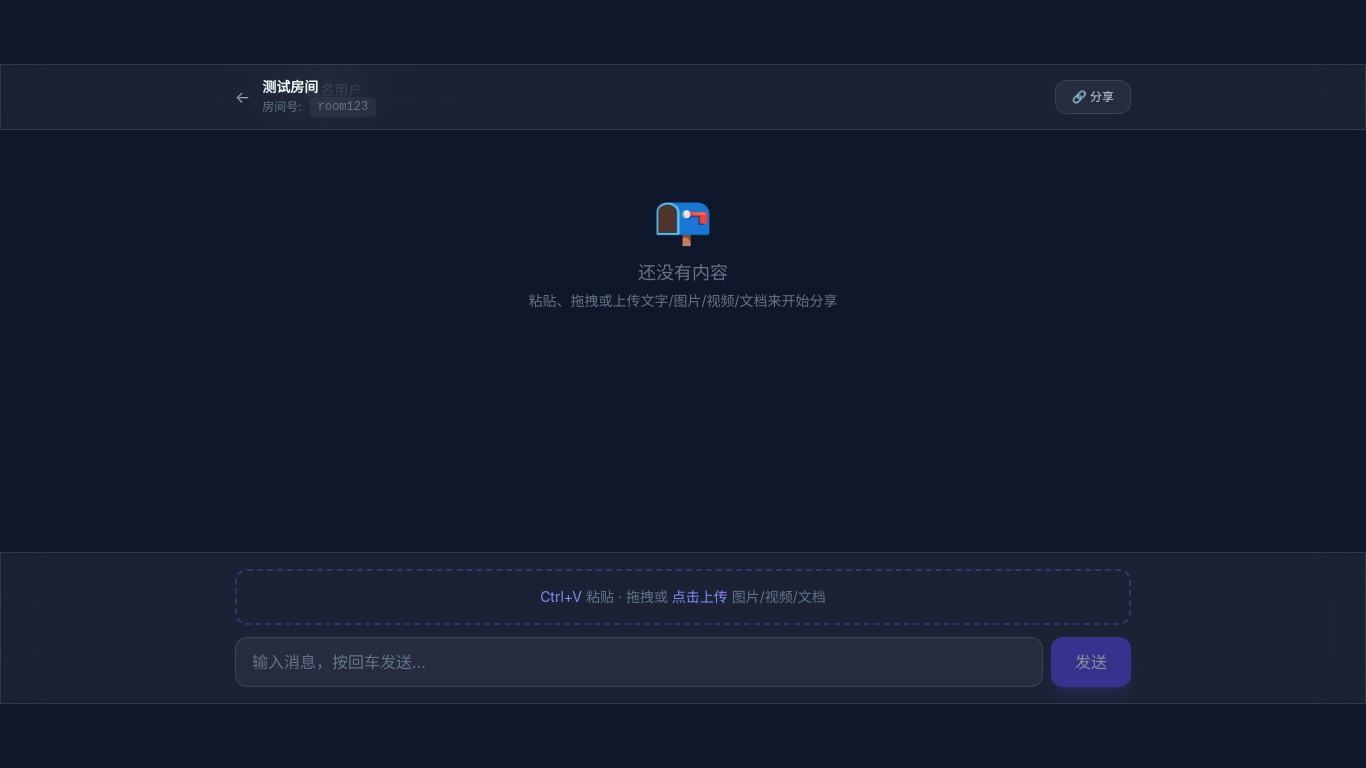
Scenario: Room Page — Share (link + password) › copies share link for open room (no password)
Expected: the text "还没有内容" is shown, [638, 262, 728, 283]
Step 1. Click the button "🔗 分享" → [1093, 97], box [1055, 80, 1131, 114]
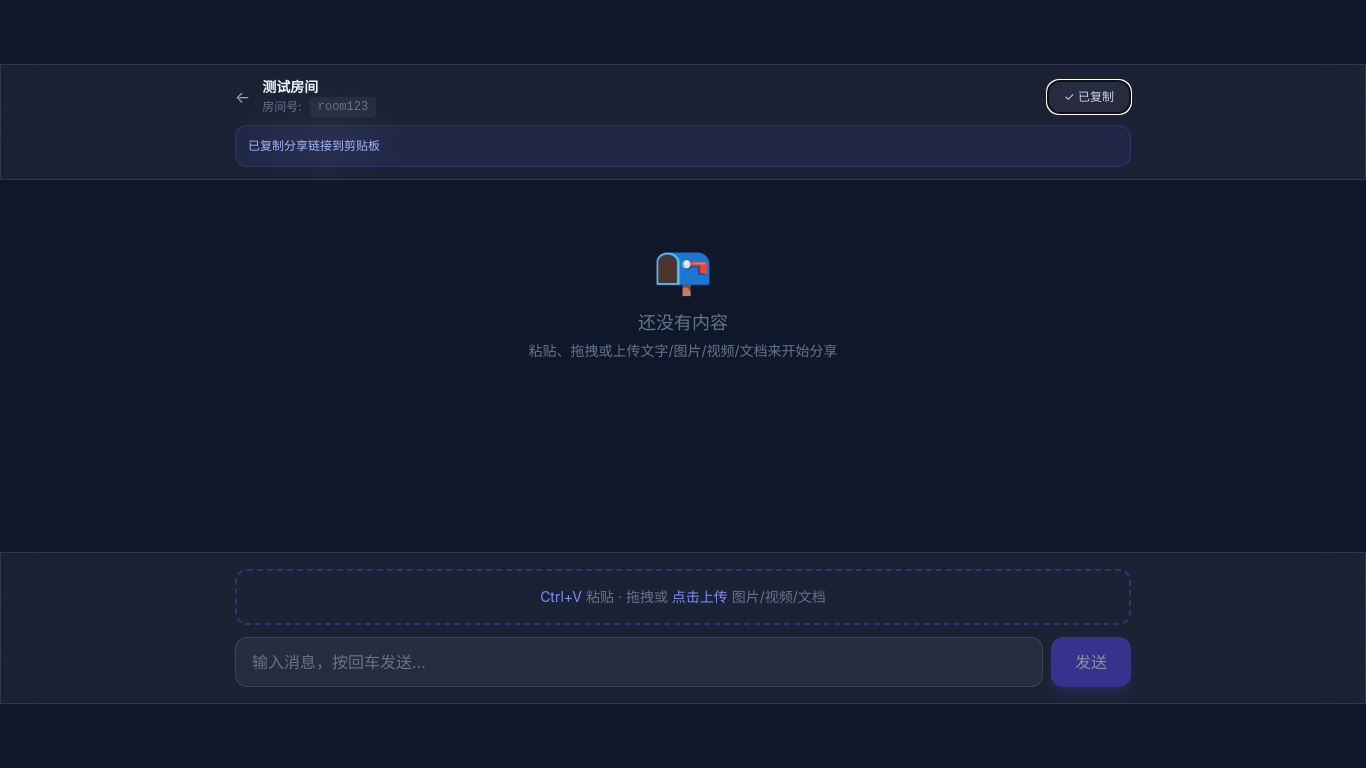
Now the button "✓ 已复制" is shown, box [1047, 80, 1131, 114]
Now the text "已复制分享链接到剪贴板" is shown, box [235, 125, 1131, 167]
